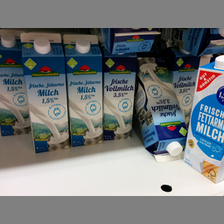milk: (16, 33, 71, 153), (139, 54, 187, 164), (62, 33, 103, 147), (189, 57, 224, 185), (2, 29, 31, 138), (102, 55, 135, 141)
